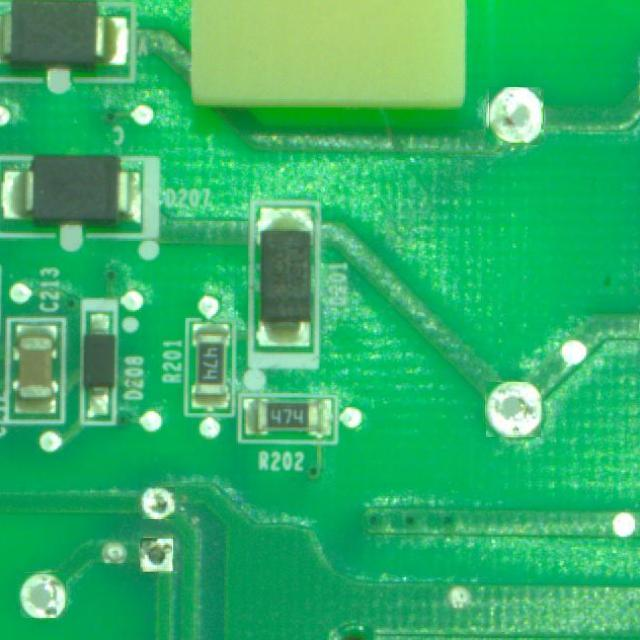oppostie_direction: (486, 383, 541, 436), (489, 88, 541, 144), (20, 572, 66, 618), (141, 538, 172, 572), (141, 488, 175, 518)
